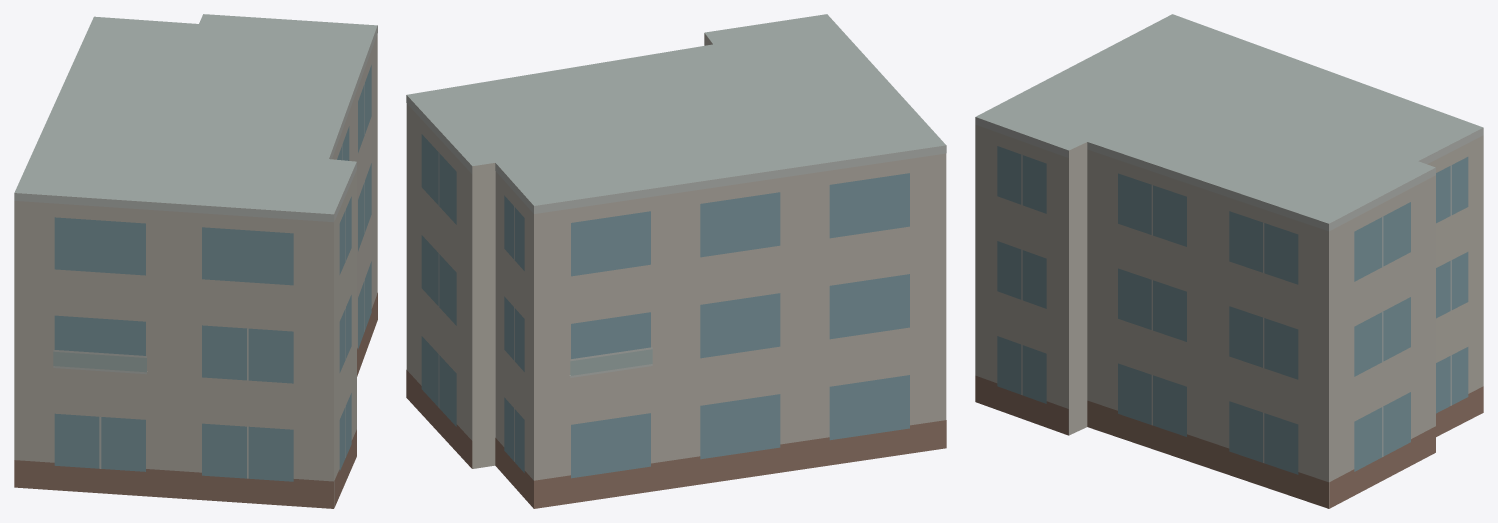
Rendered from survey-upis-32705061.glb.
3 renders of one model, left to right at view 1: azimuth 30°, elevation 25°; view 2: azimuth 150°, elevation 25°; view 3: azimuth 270°, elevation 25°, orthographic. The views are drawn at different scales.
Visible parts, largest first — view 1: survey-upis-32705061.tmp; view 2: survey-upis-32705061.tmp; view 3: survey-upis-32705061.tmp.
Boxes of the visible parts, bbox=[...] form: survey-upis-32705061.tmp: bbox=[14, 14, 377, 508]; survey-upis-32705061.tmp: bbox=[406, 14, 946, 508]; survey-upis-32705061.tmp: bbox=[975, 14, 1483, 508].
Bounding box in the file's own units: 14.37 × 9.1 × 14.71.
